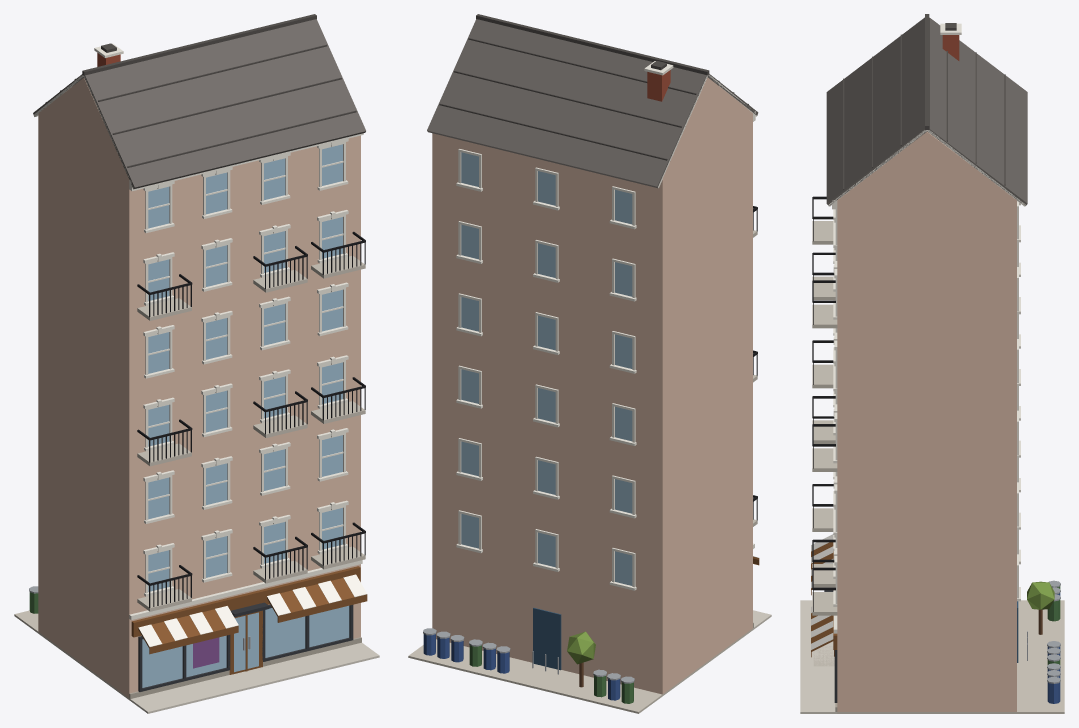
The model's file is Blok_duz_7k_3_Hafif.fbx.
3 views of the same model, side by side, from view 1: azimuth 30°, elevation 25°; view 2: azimuth 150°, elevation 25°; view 3: azimuth 270°, elevation 25° (orthographic).
Visible parts, largest first — view 1: Blok_duz_7k_3_Hafif; view 2: Blok_duz_7k_3_Hafif; view 3: Blok_duz_7k_3_Hafif.
Part boxes in pixels (bbox=[...]): Blok_duz_7k_3_Hafif: bbox=[14, 14, 379, 713]; Blok_duz_7k_3_Hafif: bbox=[408, 14, 771, 713]; Blok_duz_7k_3_Hafif: bbox=[800, 14, 1064, 713].
Size of the model in its own units: 10.04 by 24.9 by 10.
